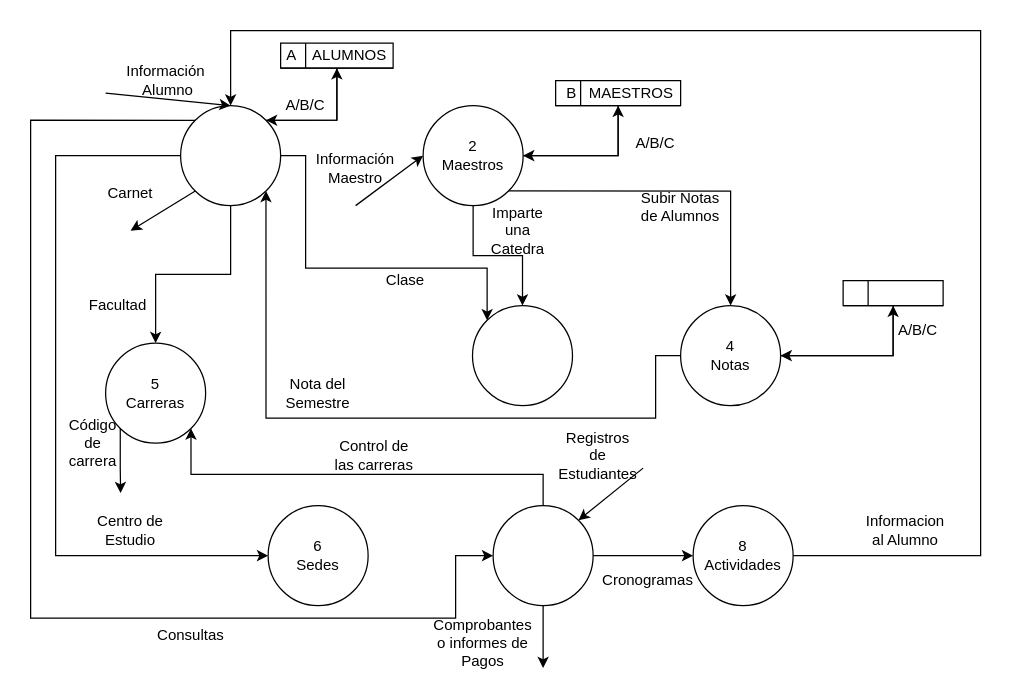
Image size: 1013x700. Some labels were removed from this diagram. Each missing label, with the box of its shape:
1 Alumnos: (179, 104, 281, 206)
3 Cursos: (471, 304, 572, 406)
7 Administracion: (492, 504, 593, 606)
C NOTAS: (842, 279, 943, 306)
